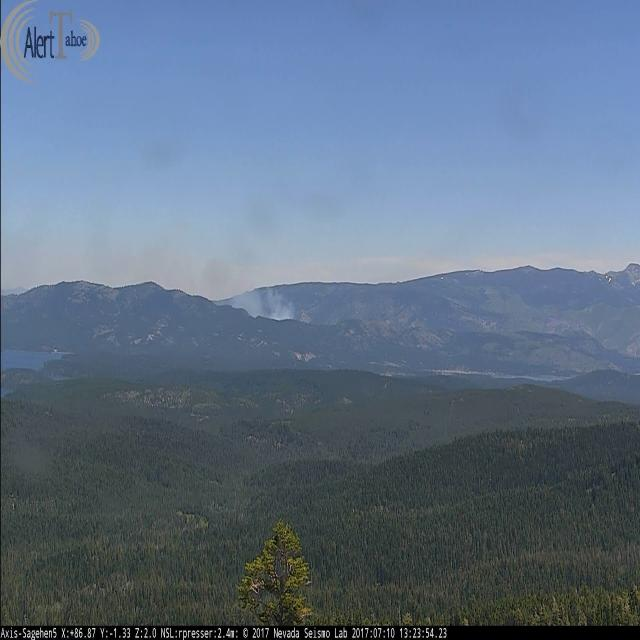smoke: (146, 254, 297, 322)
